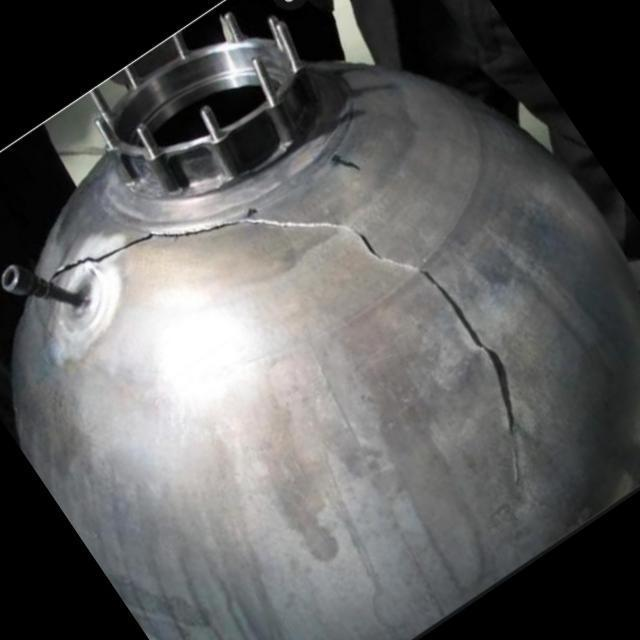defect: (47, 215, 520, 437)
